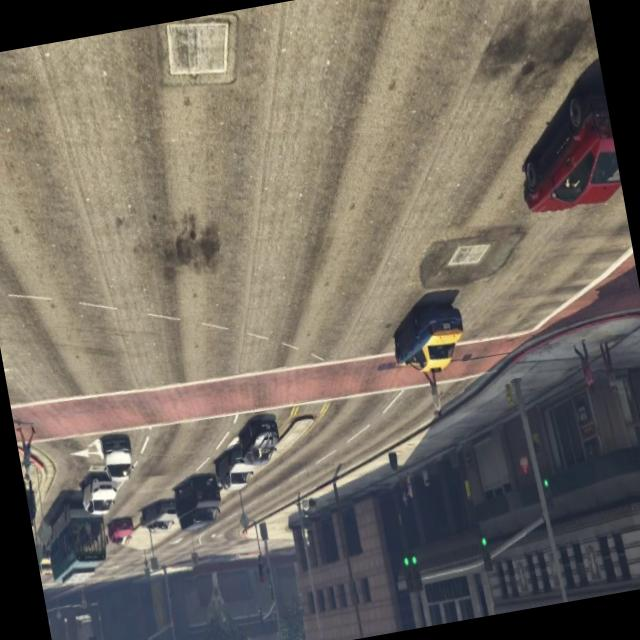Green-Signal: (395, 537, 428, 601), (472, 522, 500, 583), (536, 466, 560, 522)
